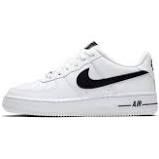nike: (72, 66, 151, 91)
